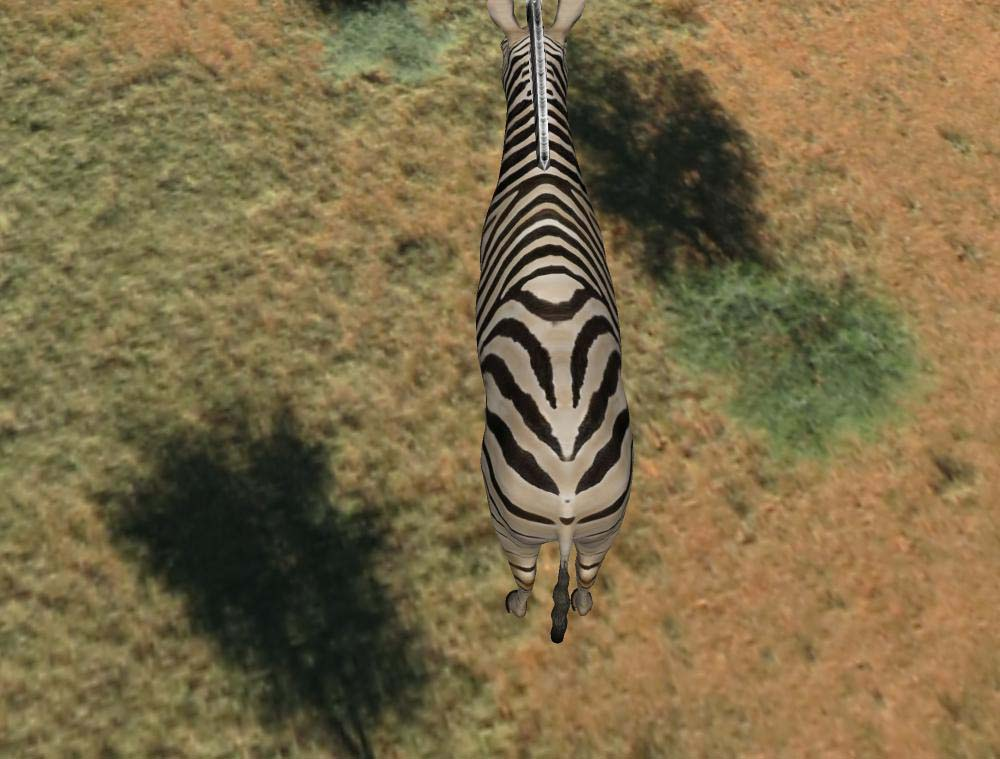zebra: (466, 1, 639, 639)
